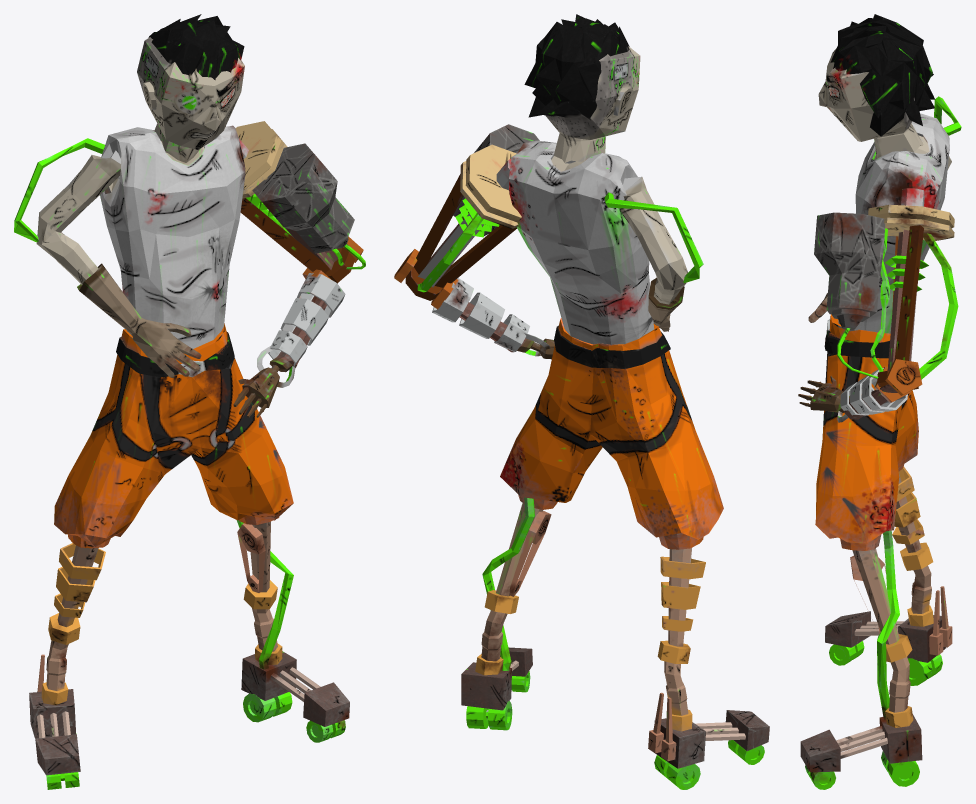
The model's file is CyborgFINALAnimation_000026.obj.
3 renders of one model, left to right at view 1: azimuth 30°, elevation 25°; view 2: azimuth 150°, elevation 25°; view 3: azimuth 270°, elevation 25°, orthographic.
Parts seen in each view (by area): view 1: CyborgMesh_Cube.002; view 2: CyborgMesh_Cube.002; view 3: CyborgMesh_Cube.002.
Part boxes in pixels (x1,y1,x2,y2): CyborgMesh_Cube.002: [14, 14, 365, 789]; CyborgMesh_Cube.002: [394, 14, 769, 789]; CyborgMesh_Cube.002: [798, 14, 961, 789].
Bounding box in the file's own units: 4.79 × 9.6 × 1.98.
